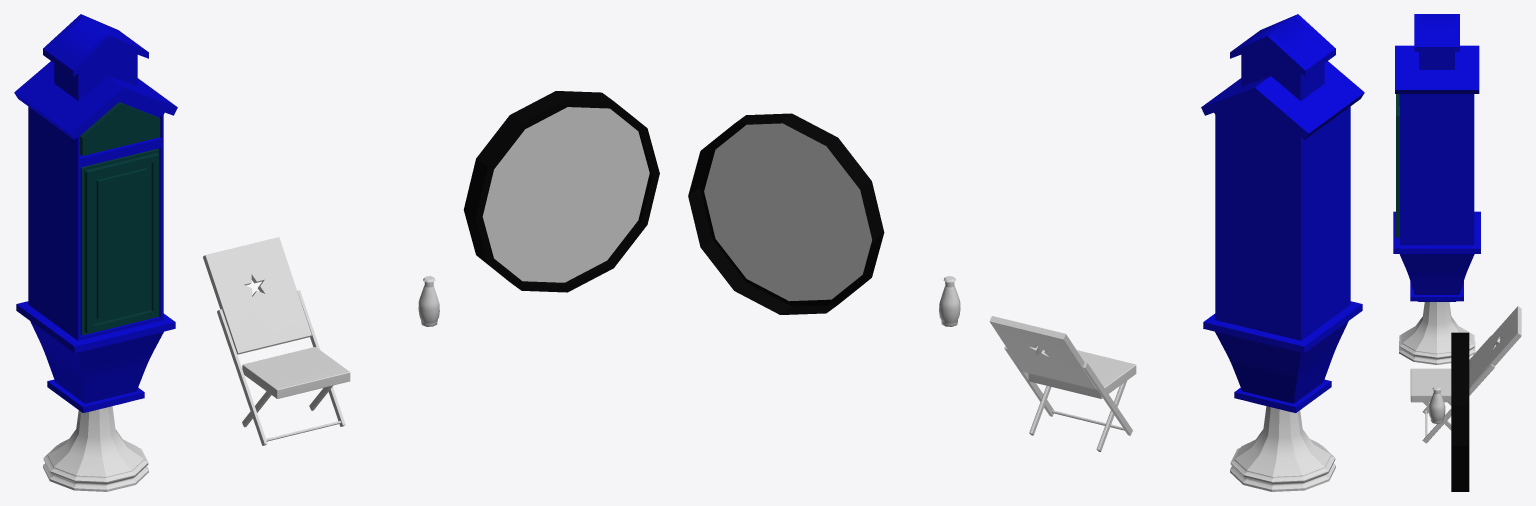
File: Props.fbx
3 renders of one model, left to right at view 1: azimuth 30°, elevation 25°; view 2: azimuth 150°, elevation 25°; view 3: azimuth 270°, elevation 25°, orthographic. The views are drawn at different scales.
Visible parts, largest first — view 1: Mailbox, Clock, Chair_Back_Star_2, Mailbox_Stand, Chair_Seat, chair_Leg_Long_3, Coke_bottle; view 2: Mailbox, Clock, Mailbox_Stand, Chair_Back_Star_2, Chair_Seat, Coke_bottle; view 3: Mailbox, Clock, Mailbox_Stand, Chair_Back_Star_2, Chair_Seat, Coke_bottle, chair_Leg_Long_1.
Part boxes in pixels (left/top/right/bottom): Mailbox: left=14, top=14, right=177, bottom=412; Clock: left=463, top=91, right=659, bottom=292; Chair_Back_Star_2: left=203, top=237, right=311, bottom=354; Mailbox_Stand: left=43, top=406, right=148, bottom=491; Chair_Seat: left=242, top=347, right=350, bottom=398; chair_Leg_Long_3: left=217, top=309, right=267, bottom=445; Coke_bottle: left=418, top=282, right=439, bottom=326; Mailbox: left=1201, top=14, right=1364, bottom=412; Clock: left=688, top=113, right=884, bottom=314; Mailbox_Stand: left=1230, top=406, right=1335, bottom=491; Chair_Back_Star_2: left=989, top=316, right=1096, bottom=389; Chair_Seat: left=1028, top=350, right=1136, bottom=398; Coke_bottle: left=939, top=282, right=960, bottom=326; Mailbox: left=1393, top=14, right=1480, bottom=301; Clock: left=1451, top=332, right=1469, bottom=491; Mailbox_Stand: left=1399, top=302, right=1475, bottom=364; Chair_Back_Star_2: left=1469, top=306, right=1521, bottom=387; Chair_Seat: left=1410, top=368, right=1451, bottom=402; Coke_bottle: left=1428, top=390, right=1445, bottom=423; chair_Leg_Long_1: left=1422, top=364, right=1494, bottom=443.
Bounding box in the file's own units: 8.52 × 5.9 × 2.01.
